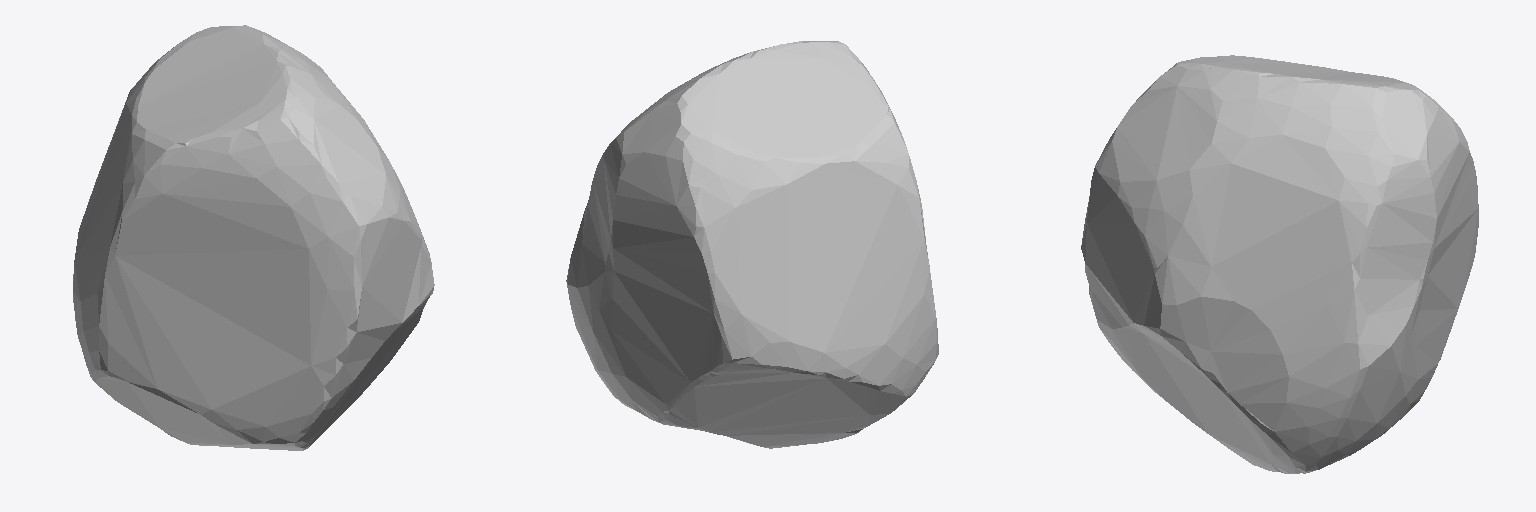
The model's file is stone.obj.
The picture shows the model from 3 angles: view 1: azimuth 30°, elevation 25°; view 2: azimuth 150°, elevation 25°; view 3: azimuth 270°, elevation 25°; orthographic projection.
Visible parts, largest first — view 1: Cube; view 2: Cube; view 3: Cube.
Part boxes in pixels (left/top/right/bottom): Cube: left=73, top=25, right=434, bottom=450; Cube: left=566, top=41, right=938, bottom=448; Cube: left=1081, top=55, right=1478, bottom=473.
Bounding box in the file's own units: 2.77 × 3.13 × 2.93.